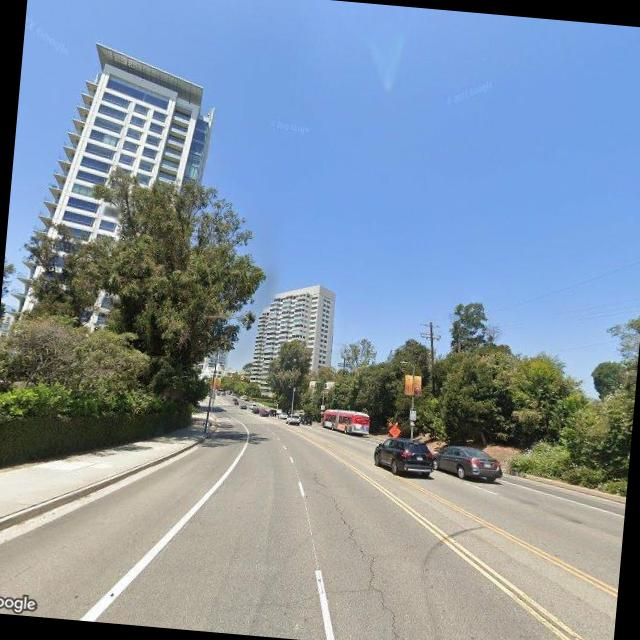pothole: (310, 487, 437, 640)
